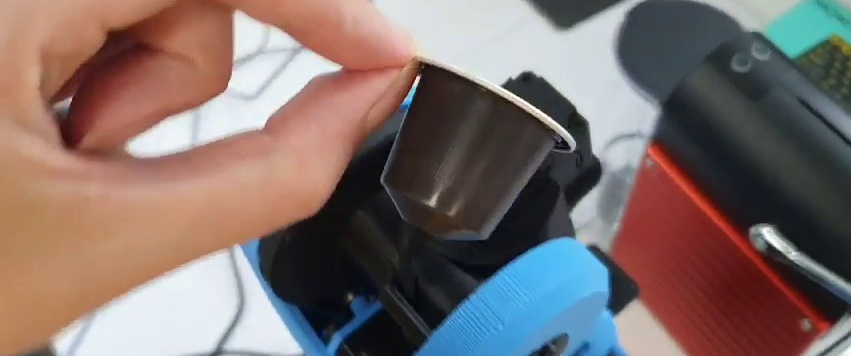capsule_4: (386, 50, 578, 241)
